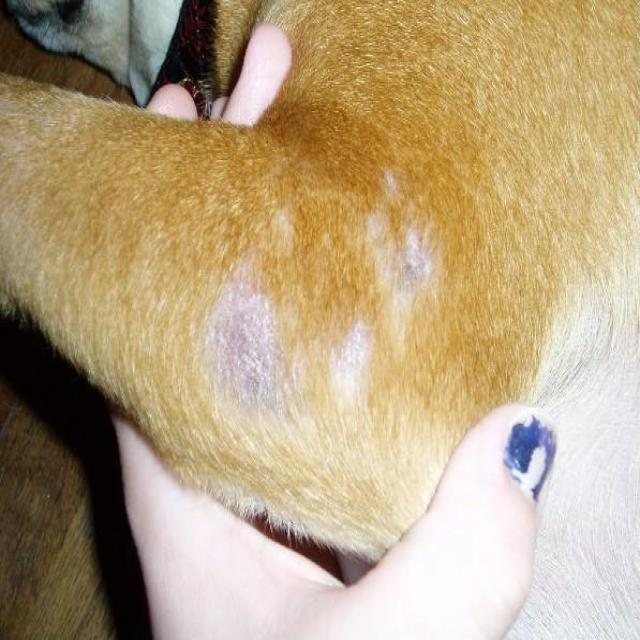mange: (152, 138, 492, 484)
